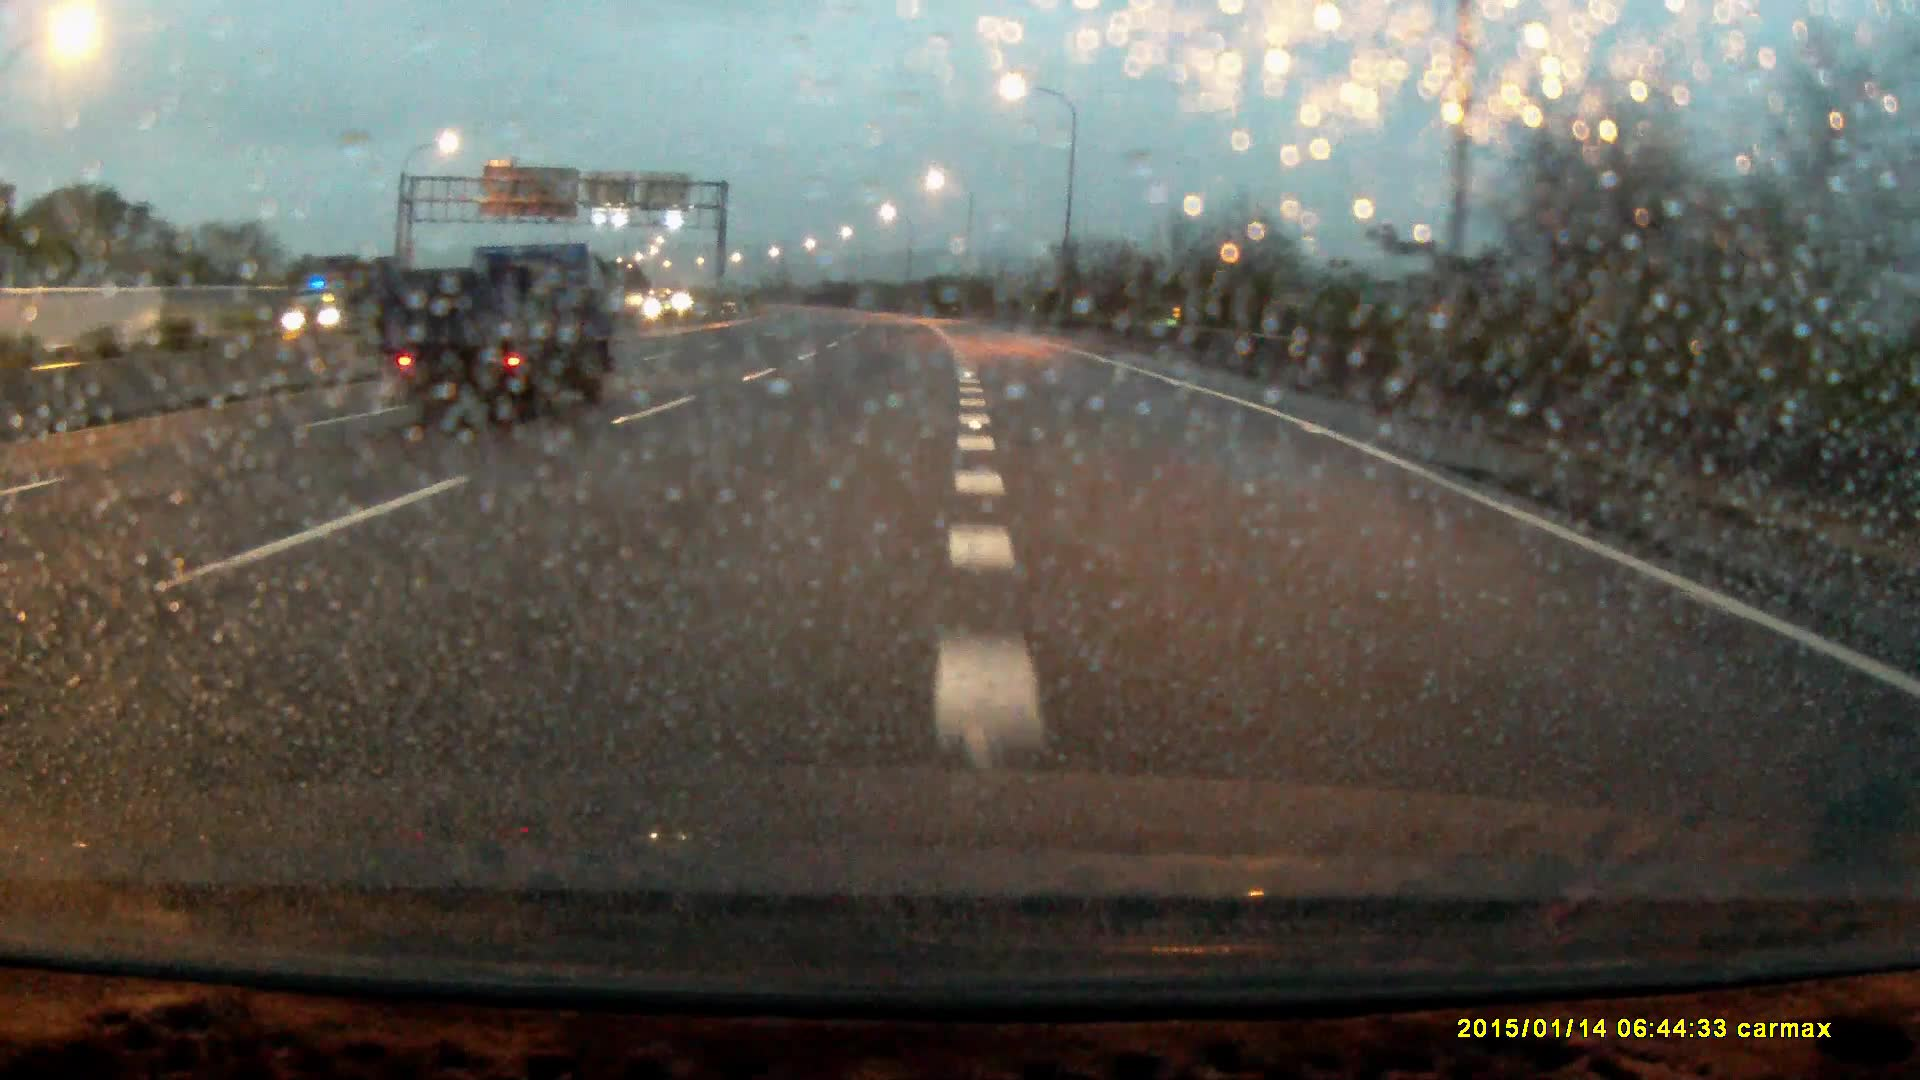vehicle: (380, 243, 607, 422)
